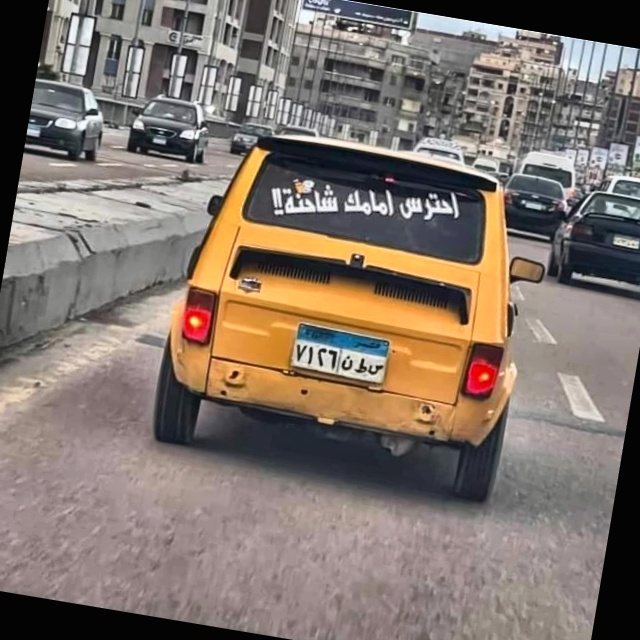License Plate: (287, 320, 394, 387)
